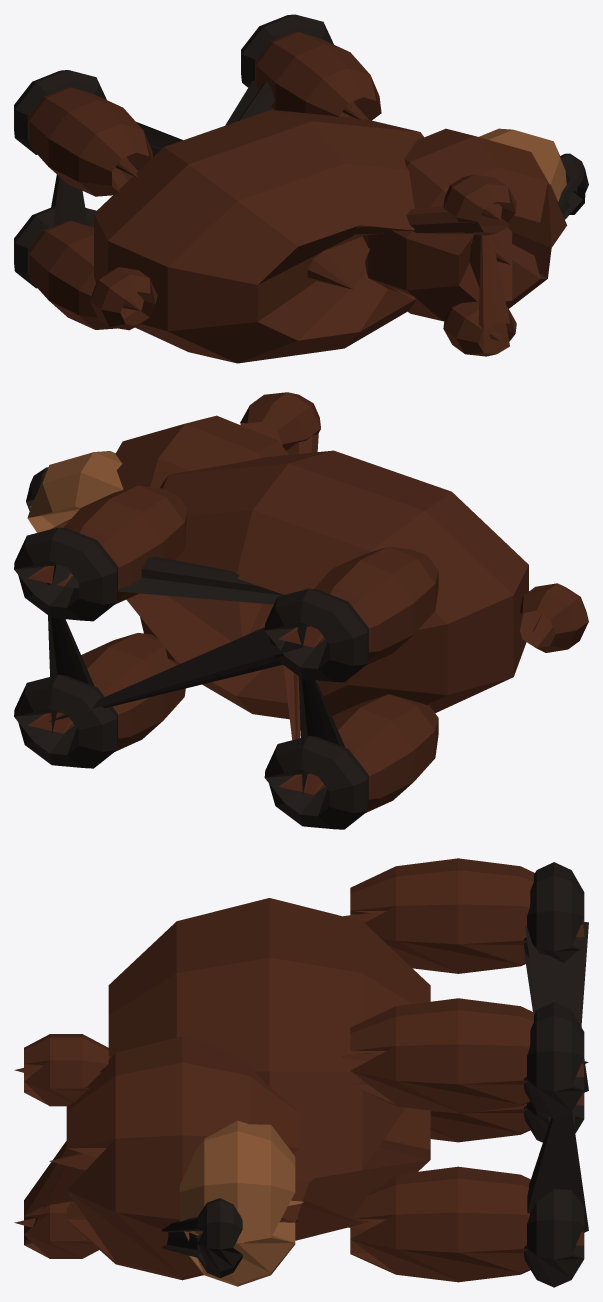
File: bear_lowpoly.obj
3 views of the same model, one above another, from view 1: azimuth 30°, elevation 25°; view 2: azimuth 150°, elevation 25°; view 3: azimuth 270°, elevation 25° (orthographic). The views are drawn at different scales.
Visible parts, largest first — view 1: Bear; view 2: Bear; view 3: Bear.
Boxes of the visible parts, <box> form: Bear: <box>14,14,588,363</box>; Bear: <box>14,392,588,829</box>; Bear: <box>14,858,588,1287</box>.
Size of the model in its own units: 2.49 by 1.03 by 1.98.
